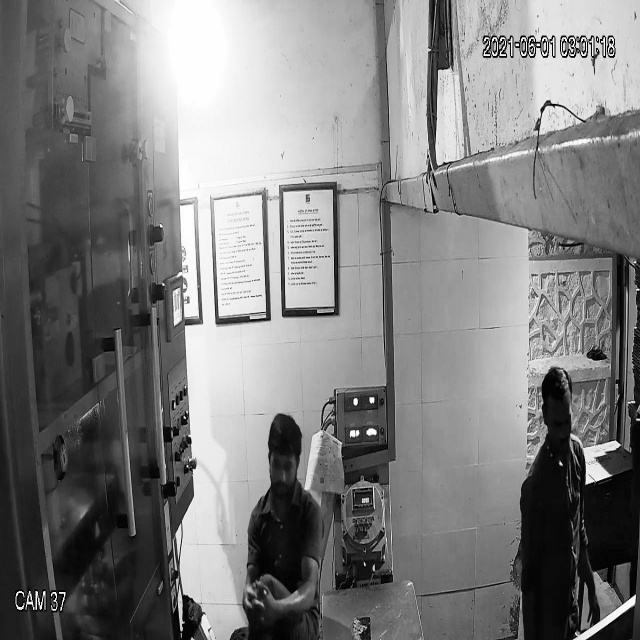Sin_gafas: (264, 446, 303, 482)
